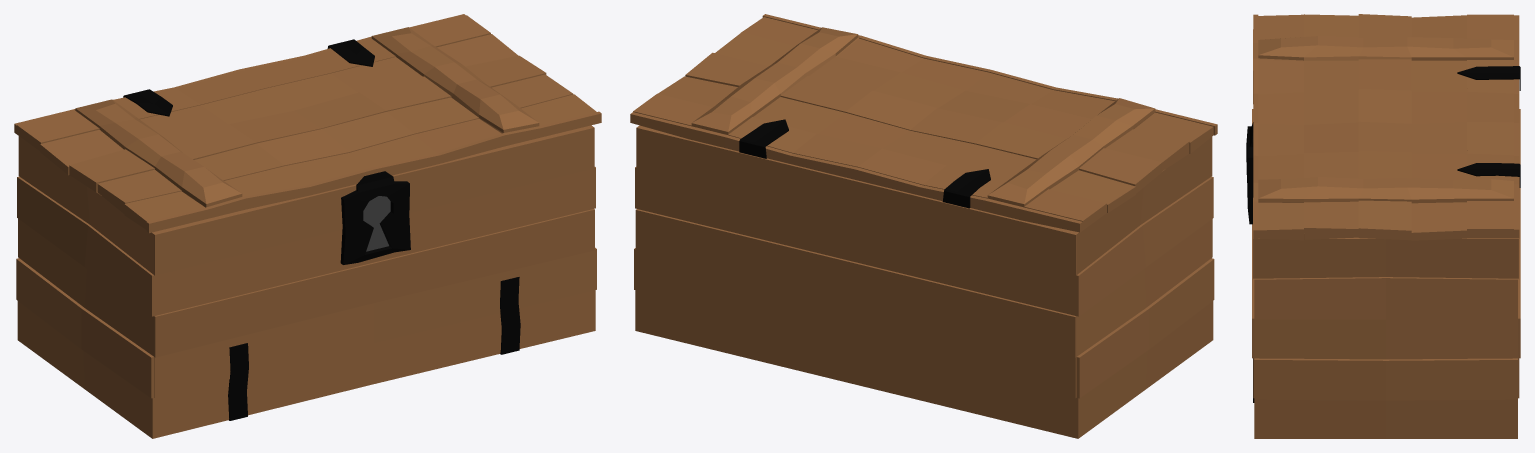
Rendered from Chest1_v1.fbx.
3 views of the same model, side by side, from view 1: azimuth 30°, elevation 25°; view 2: azimuth 150°, elevation 25°; view 3: azimuth 270°, elevation 25° (orthographic). The views are drawn at different scales.
Visible parts, largest first — view 1: Cube.365, Cube.366; view 2: Cube.365, Cube.366; view 3: Cube.366, Cube.365.
Boxes of the visible parts, x1=… form: Cube.365: x1=16, y1=125, x2=596, y2=438; Cube.366: x1=14, y1=14, x2=601, y2=233; Cube.365: x1=634, y1=125, x2=1214, y2=438; Cube.366: x1=630, y1=14, x2=1217, y2=232; Cube.366: x1=1253, y1=14, x2=1520, y2=240; Cube.365: x1=1246, y1=29, x2=1520, y2=438.
Bounding box in the file's own units: 416 × 201 × 224.
